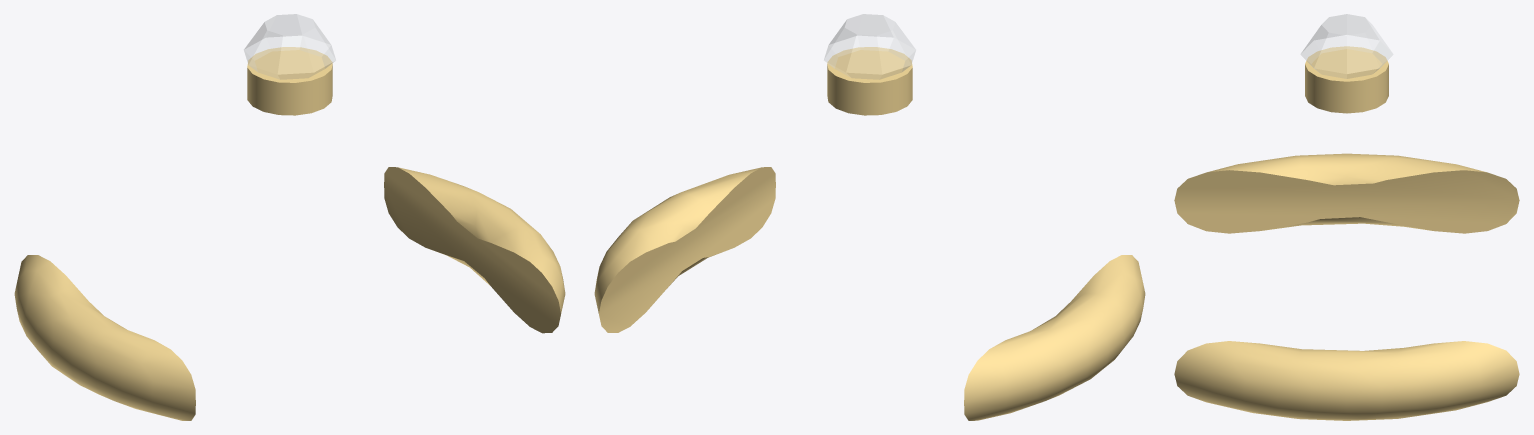
The model's file is ring_after.glb.
The picture shows the model from 3 angles, left to right: view 1: azimuth 30°, elevation 25°; view 2: azimuth 150°, elevation 25°; view 3: azimuth 270°, elevation 25°; orthographic projection. The views are drawn at different scales.
Parts seen in each view (by area): view 1: Jewelry_Metal, Diamond; view 2: Jewelry_Metal, Diamond; view 3: Jewelry_Metal, Diamond.
Part boxes in pixels (x1,y1,x2,y2): Jewelry_Metal: (14,47,565,420); Diamond: (244,14,335,79); Jewelry_Metal: (594,47,1145,420); Diamond: (824,14,915,79); Jewelry_Metal: (1174,46,1519,420); Diamond: (1300,14,1393,78).
Size of the model in its own units: 2.3 by 1.39 by 1.48.
